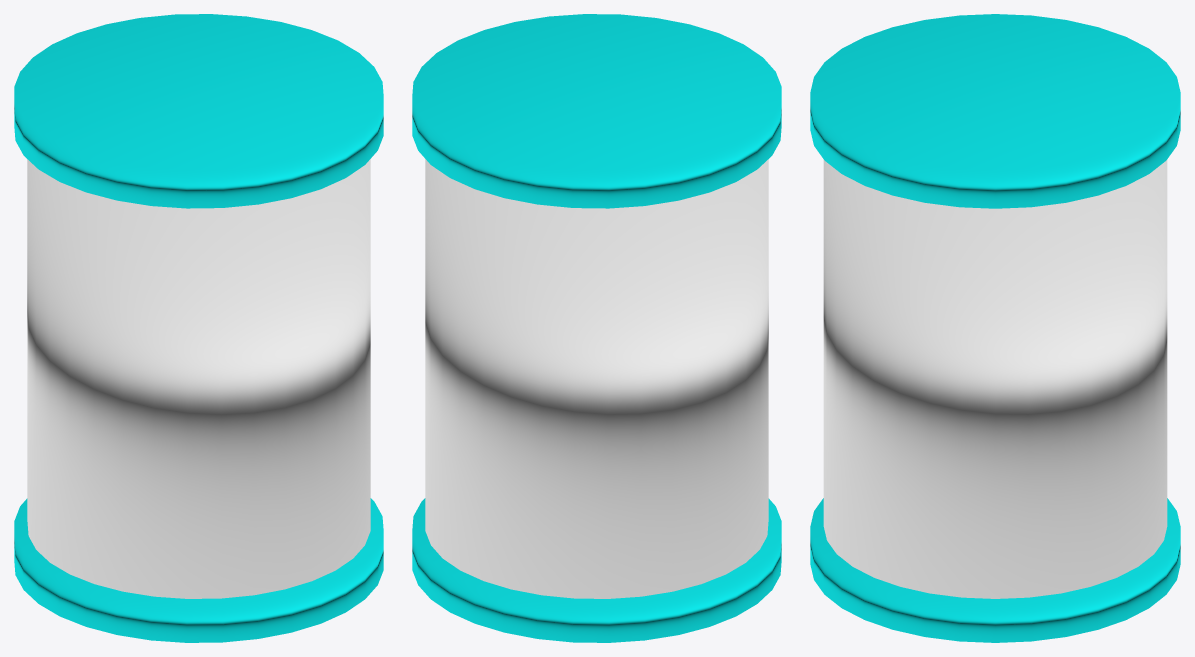
File: lata.fbx
3 renders of one model, left to right at view 1: azimuth 30°, elevation 25°; view 2: azimuth 150°, elevation 25°; view 3: azimuth 270°, elevation 25°, orthographic.
Visible parts, largest first — view 1: Cylinder.002; view 2: Cylinder.002; view 3: Cylinder.002.
Boxes of the visible parts, bbox=[...] form: Cylinder.002: bbox=[14, 14, 383, 642]; Cylinder.002: bbox=[412, 14, 781, 642]; Cylinder.002: bbox=[810, 14, 1180, 642].
Size of the model in its own units: 2.15 by 2.15 by 3.04.
